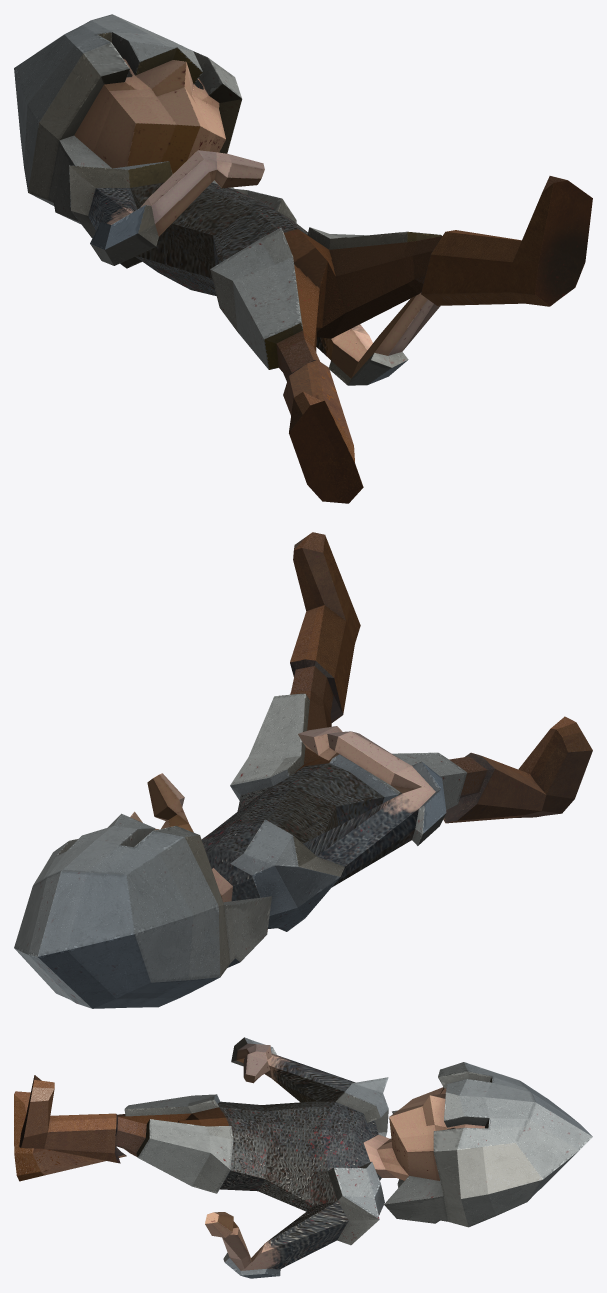
Rendered from Walk_Soldier_14.obj.
3 renders of one model, top to bottom at view 1: azimuth 30°, elevation 25°; view 2: azimuth 150°, elevation 25°; view 3: azimuth 270°, elevation 25°, orthographic. The views are drawn at different scales.
Visible parts, largest first — view 1: Soldado_LowPolySTD; view 2: Soldado_LowPolySTD; view 3: Soldado_LowPolySTD.
Part boxes in pixels (<box>): Soldado_LowPolySTD: <box>14,14,592,503</box>; Soldado_LowPolySTD: <box>14,532,592,1008</box>; Soldado_LowPolySTD: <box>14,1037,592,1278</box>.
Bounding box in the file's own units: 0.762 × 0.6459 × 1.58.
